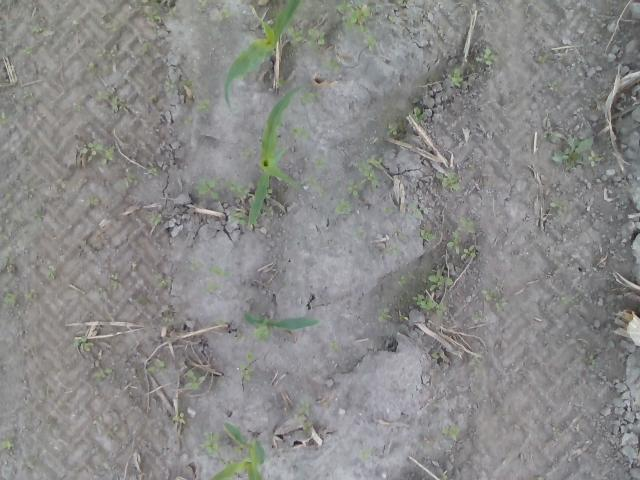Maize: (225, 0, 302, 111), (247, 86, 302, 227), (206, 423, 267, 480), (242, 311, 319, 332)
Weeds: (552, 136, 592, 170), (334, 0, 372, 31), (411, 292, 449, 316), (80, 140, 115, 164), (482, 288, 508, 316), (94, 90, 126, 112), (353, 160, 378, 188), (223, 178, 254, 199), (354, 24, 378, 51), (193, 176, 220, 200), (427, 269, 455, 290), (304, 173, 326, 197), (434, 170, 460, 190), (200, 430, 220, 456), (182, 370, 205, 390), (292, 398, 312, 420), (467, 349, 485, 372), (253, 324, 272, 344), (446, 228, 461, 253), (447, 66, 464, 88), (475, 48, 498, 64), (456, 216, 476, 234), (298, 91, 322, 106), (306, 27, 326, 45), (73, 335, 94, 352), (404, 204, 426, 220), (386, 120, 404, 138), (344, 178, 362, 196), (334, 198, 352, 216), (290, 124, 309, 141), (418, 226, 438, 242), (442, 426, 462, 442), (323, 55, 340, 73), (100, 11, 116, 30), (286, 26, 302, 45), (92, 366, 113, 380), (239, 364, 255, 382), (230, 210, 248, 226), (143, 7, 162, 22), (548, 200, 568, 214), (154, 274, 174, 288), (460, 244, 476, 260), (202, 280, 220, 294), (196, 98, 212, 113), (124, 172, 140, 187), (410, 106, 424, 123), (384, 244, 401, 258), (376, 306, 392, 320), (367, 154, 383, 168), (147, 360, 165, 372), (164, 79, 180, 92), (588, 150, 600, 167), (22, 184, 36, 198), (392, 226, 406, 240), (0, 436, 14, 450), (172, 411, 186, 425), (358, 447, 373, 460), (138, 38, 150, 54), (85, 196, 101, 208), (302, 421, 315, 435), (217, 9, 231, 22), (313, 156, 327, 169), (149, 212, 162, 226), (86, 61, 98, 76), (208, 267, 228, 276), (109, 274, 120, 290), (134, 296, 151, 306), (220, 458, 237, 468), (46, 265, 58, 279), (98, 49, 116, 58), (4, 292, 17, 304), (188, 260, 202, 271), (233, 442, 244, 456), (548, 132, 560, 144), (276, 76, 288, 88), (547, 79, 558, 92), (216, 316, 229, 327), (162, 316, 176, 326), (397, 276, 409, 287), (470, 312, 482, 323), (396, 310, 408, 321), (197, 0, 209, 11), (34, 211, 45, 223), (262, 205, 273, 217), (537, 53, 550, 63), (106, 426, 119, 436), (31, 26, 47, 34), (245, 351, 255, 363), (430, 352, 446, 359), (0, 111, 8, 125), (329, 341, 340, 351), (586, 354, 597, 364), (382, 206, 393, 216), (56, 177, 66, 188), (26, 288, 36, 298), (561, 295, 572, 304), (183, 116, 194, 125), (240, 150, 251, 159), (418, 444, 432, 451), (22, 46, 34, 54), (388, 13, 398, 22), (168, 5, 178, 14), (265, 188, 274, 198), (102, 64, 112, 73), (233, 333, 244, 341), (180, 78, 194, 84), (138, 0, 159, 4), (573, 292, 581, 302), (149, 94, 159, 102), (438, 473, 449, 480), (147, 166, 158, 173), (353, 230, 362, 238), (5, 192, 14, 200), (392, 0, 404, 5), (26, 460, 34, 466), (24, 90, 29, 98)
